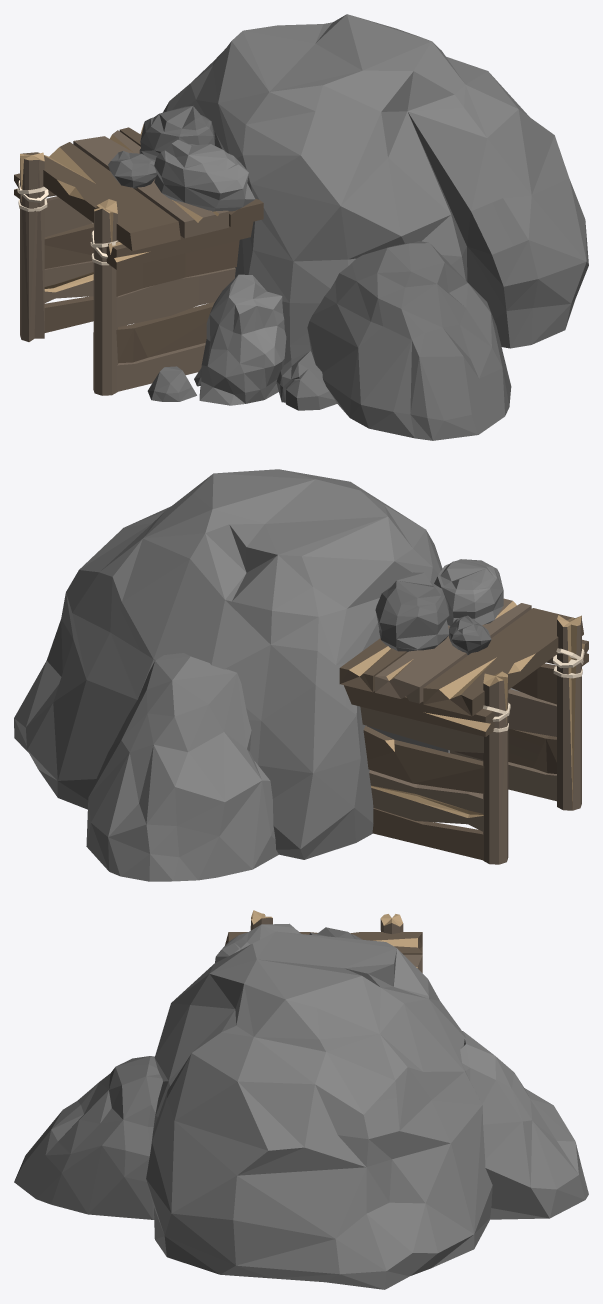
The model's file is _mine_2.fbx.
3 renders of one model, top to bottom at view 1: azimuth 30°, elevation 25°; view 2: azimuth 150°, elevation 25°; view 3: azimuth 270°, elevation 25°, orthographic. The views are drawn at different scales.
Parts seen in each view (by area): view 1: _mine_2:mine_2; view 2: _mine_2:mine_2; view 3: _mine_2:mine_2.
Part boxes in pixels (left/top/right/bottom): _mine_2:mine_2: left=14, top=14, right=588, bottom=440; _mine_2:mine_2: left=14, top=469, right=588, bottom=881; _mine_2:mine_2: left=14, top=910, right=588, bottom=1289.
Bounding box in the file's own units: 1380 × 687 × 1530.
